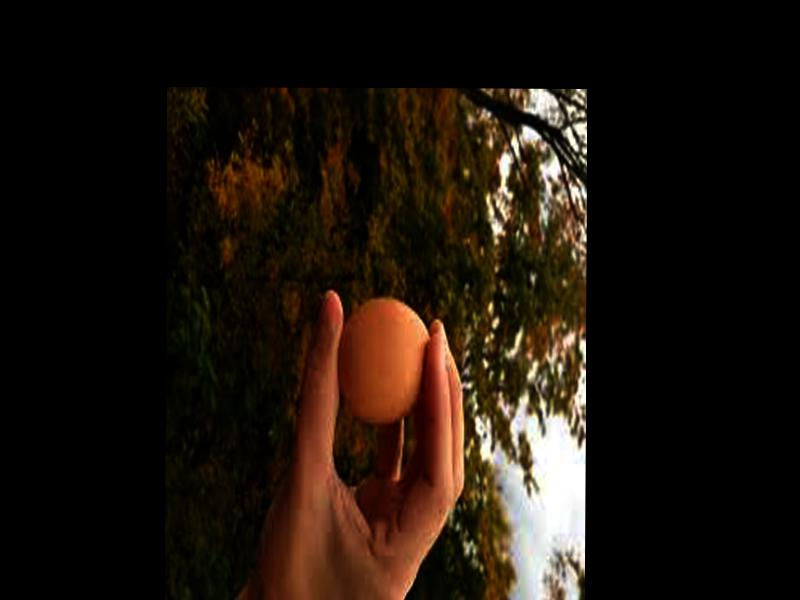Eggs: (337, 298, 431, 422)
